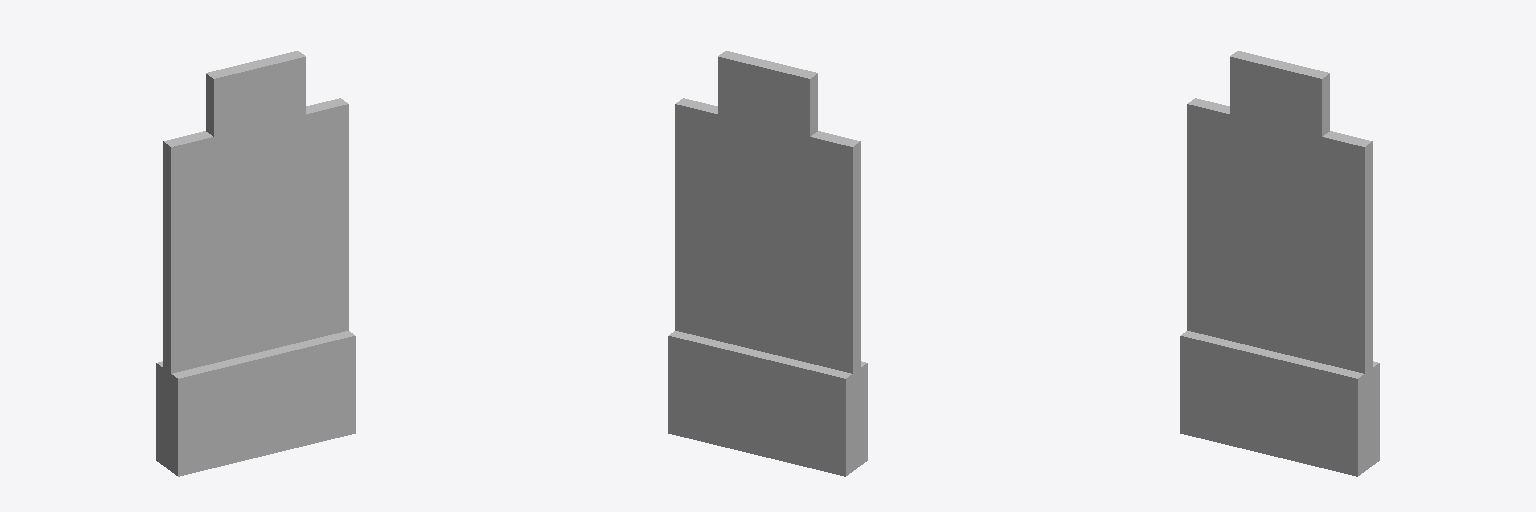
File: target_002.obj
3 renders of one model, left to right at view 1: azimuth 30°, elevation 25°; view 2: azimuth 150°, elevation 25°; view 3: azimuth 330°, elevation 25°, orthographic.
Visible parts, largest first — view 1: target_002; view 2: target_002; view 3: target_002.
Part boxes in pixels (left/top/right/bottom): target_002: left=156, top=51, right=355, bottom=476; target_002: left=668, top=51, right=867, bottom=476; target_002: left=1180, top=51, right=1379, bottom=476.
Size of the model in its own units: 1.35 by 2.77 by 0.2876.